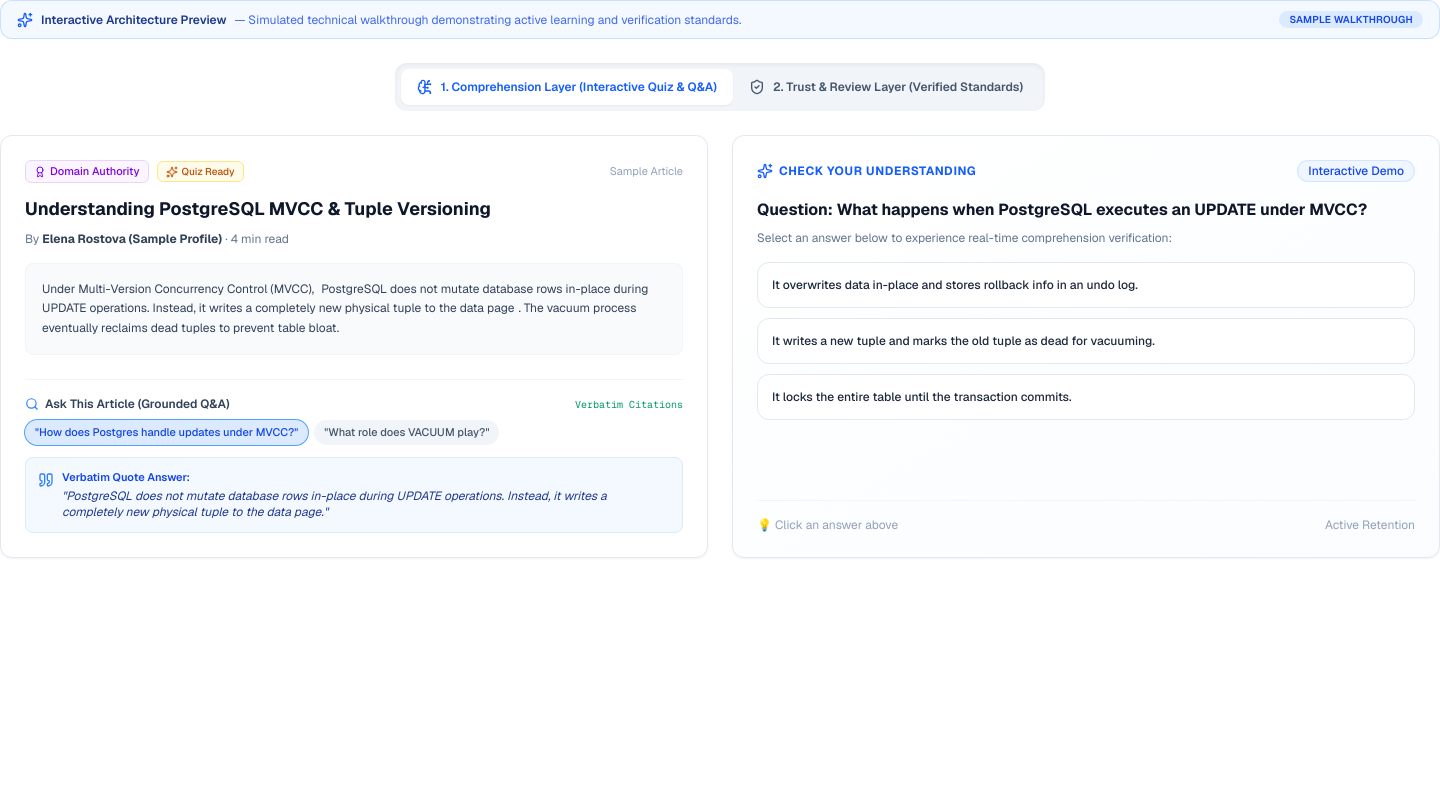
Test: InteractiveFeaturePreview › handles interactive quiz selection and displays immediate feedback
Click the button "It writes a new tuple and marks the old tuple as dead" at point(1086, 341), box [757, 318, 1415, 364]
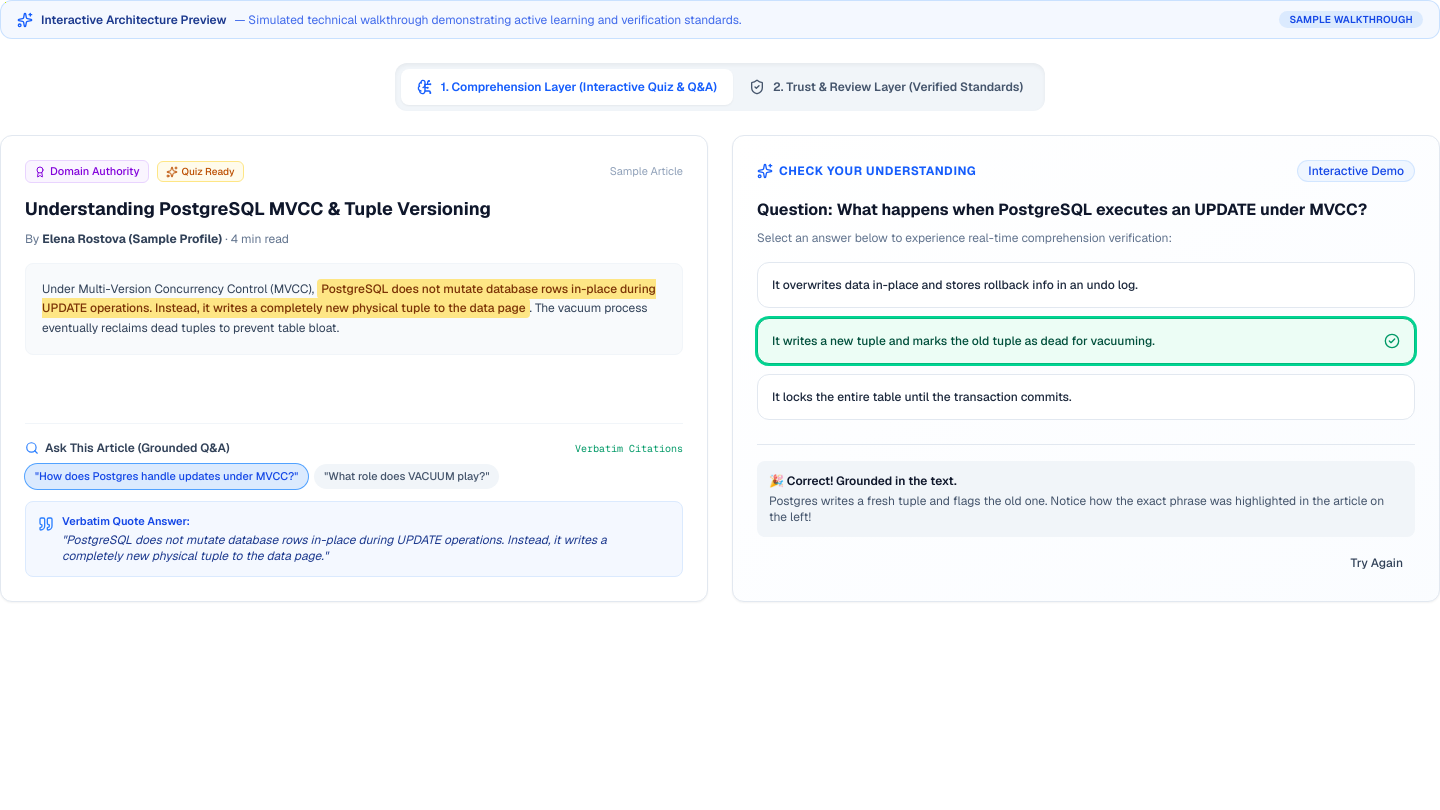
Result: the text "🎉 Correct! Grounded in the text." is shown at [769, 473, 957, 489]
Reset quiz
Click the button "Try Again" at point(1377, 563), box [1338, 549, 1415, 577]
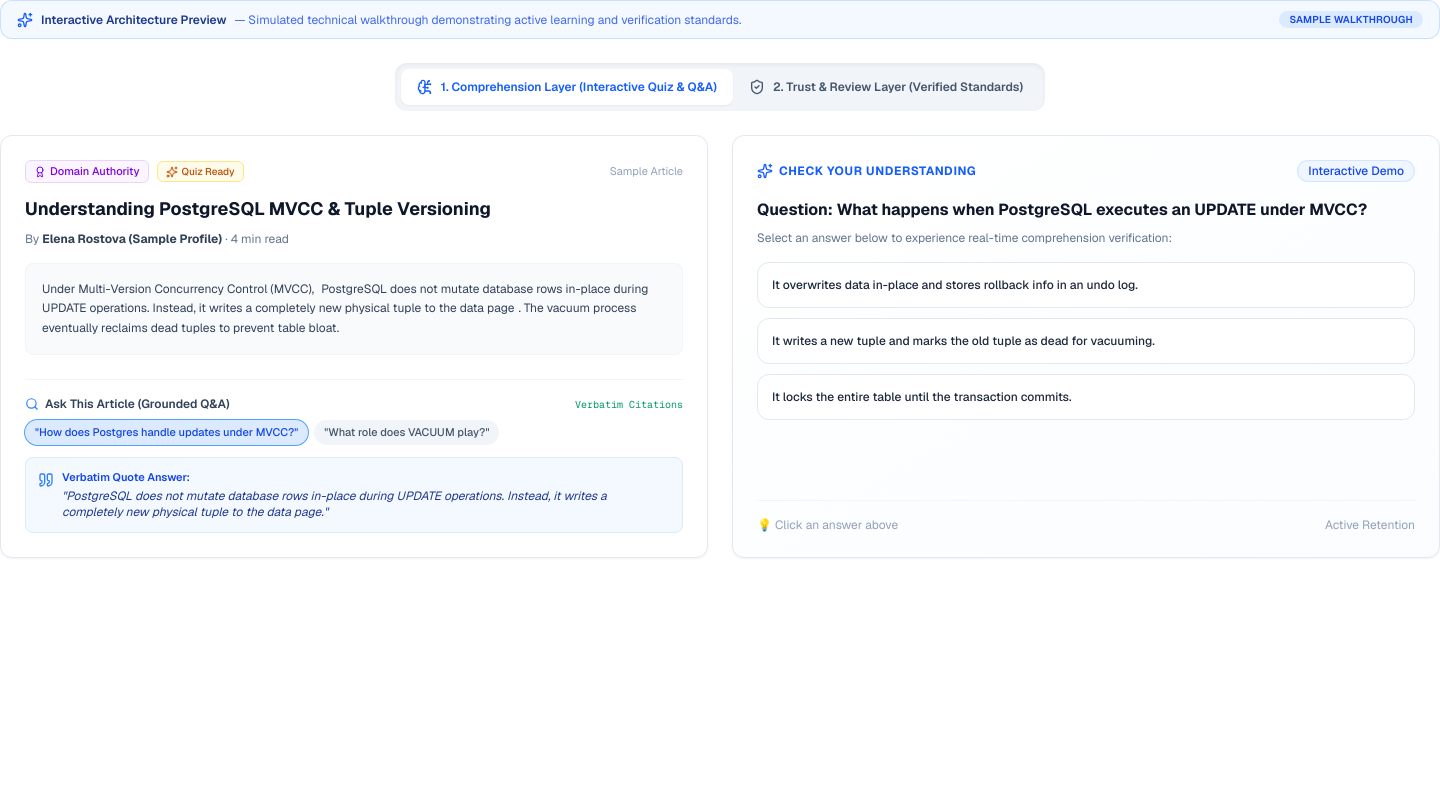
Result: the text "Correct! Grounded in the text" is gone
